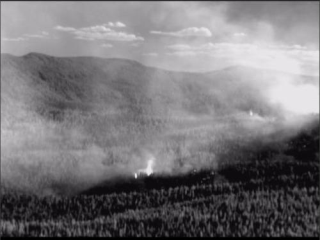fire: (138, 158, 157, 179)
smoke: (160, 144, 223, 179)
